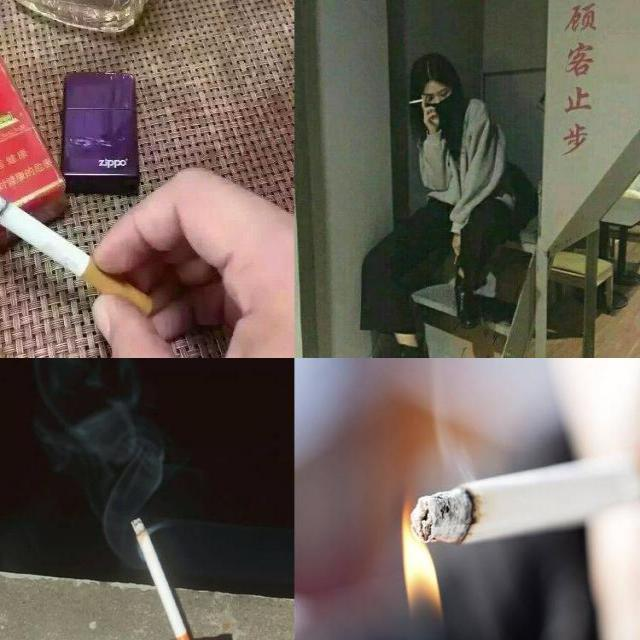smoke: (0, 173, 156, 323), (410, 447, 640, 543), (130, 517, 218, 639), (408, 95, 425, 104)
